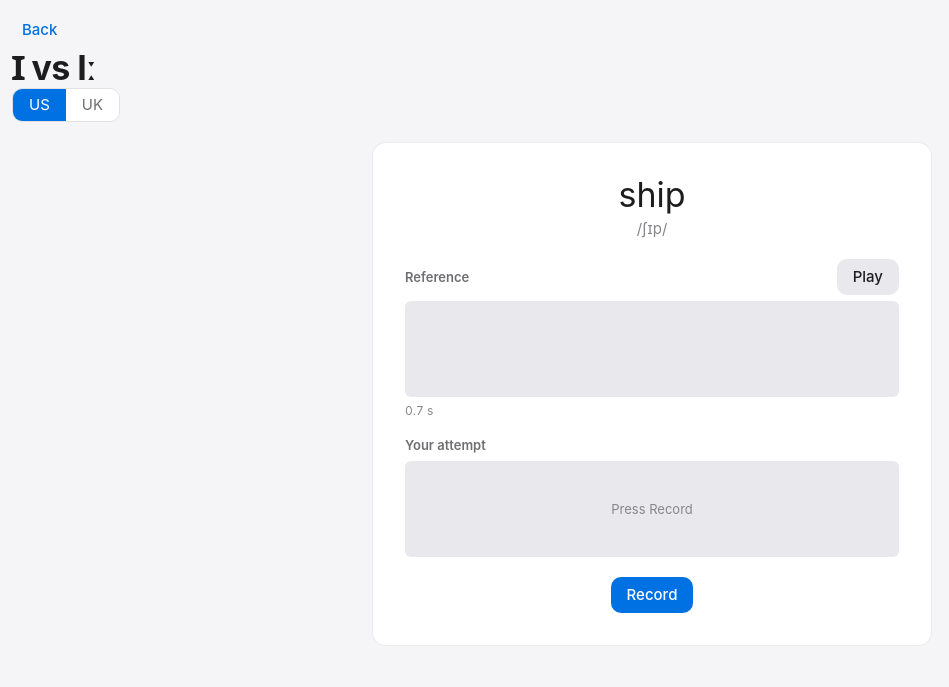
Test: attempt strip › when the recognizer ends, the microphone stops and the strip freezes with a duration
This screenshot has width=949, height=687.
Click the button "Record" at point(652, 595), box [611,577,693,613]
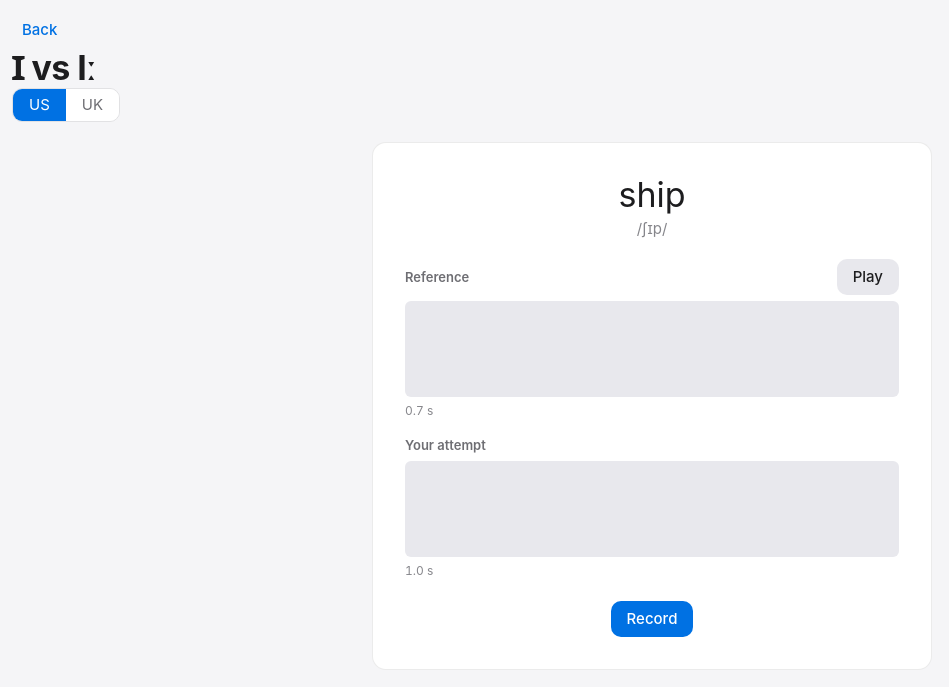
Expected: the text with class "spectrogram-strip-duration" reads "1.0 s", [405,563,433,578]
